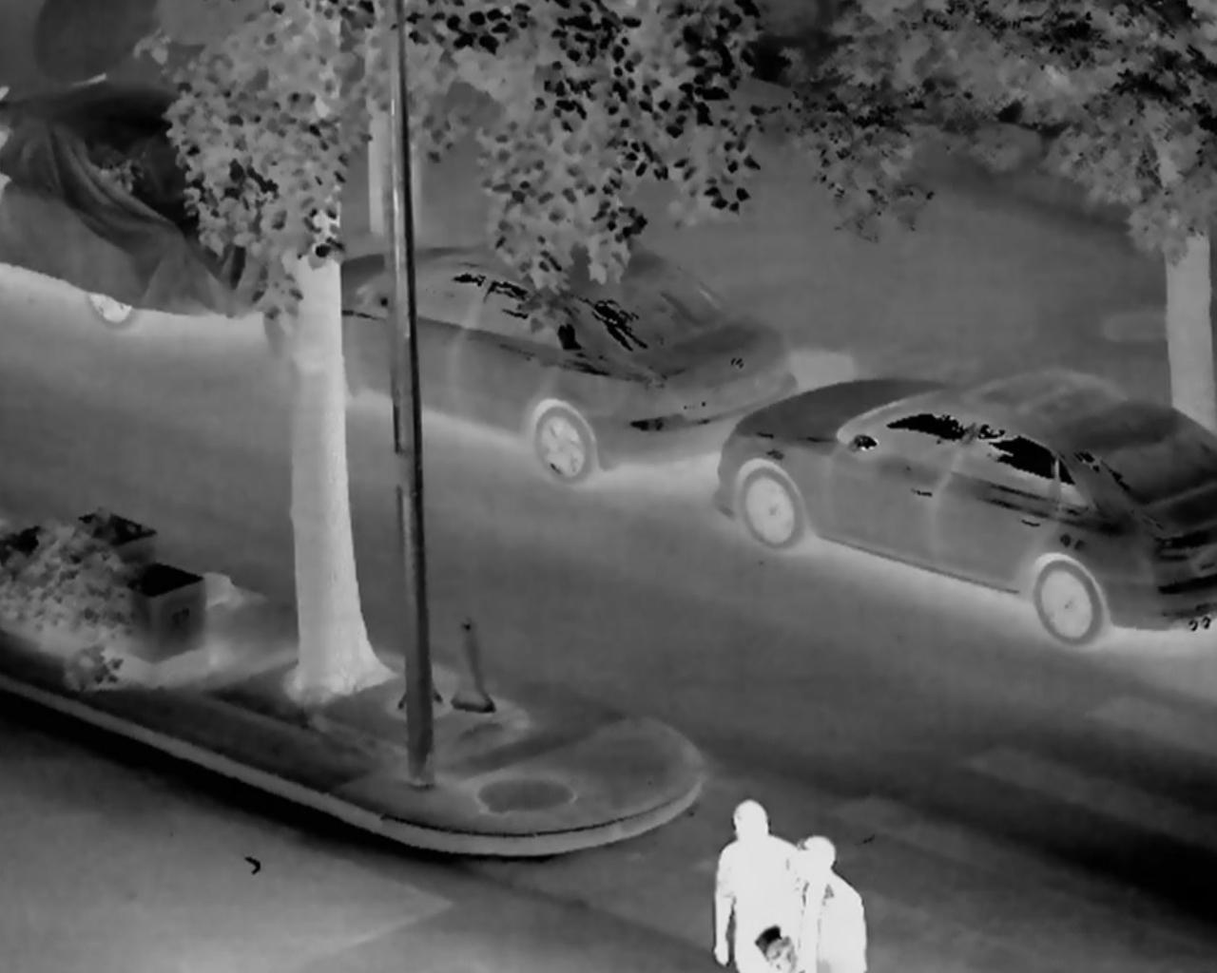person: (704, 792, 790, 973), (780, 835, 874, 973)
